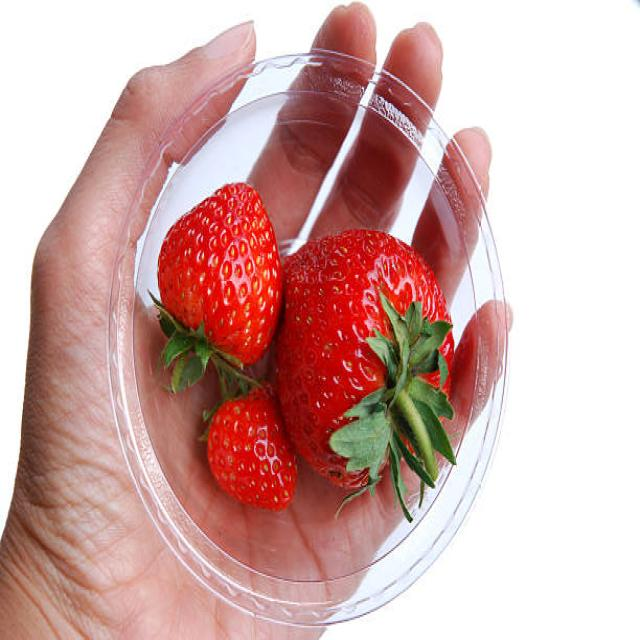Healthy Fruit: (278, 227, 454, 491), (155, 179, 282, 364), (207, 381, 297, 509)
